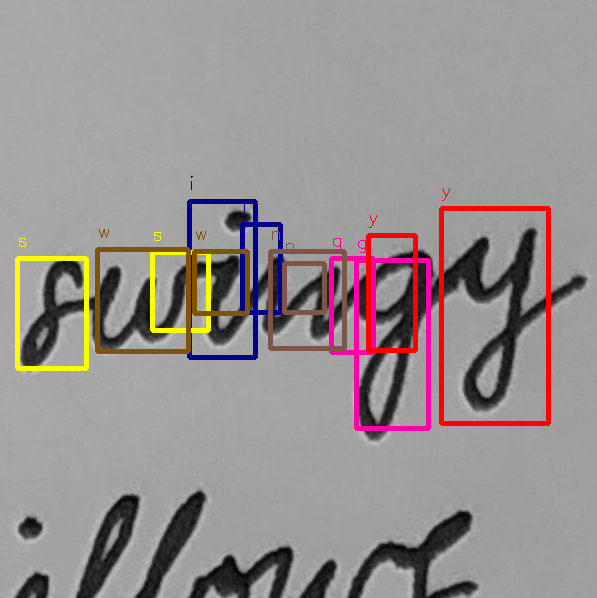g: (348, 245, 442, 446)
i: (197, 203, 255, 353)
n: (258, 248, 346, 344)
s: (13, 253, 89, 376)
w: (89, 255, 191, 354)
y: (446, 223, 548, 416)
